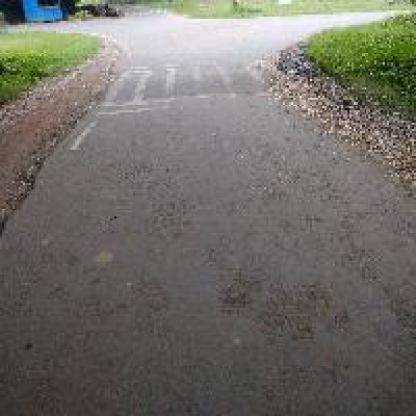Speed Bump: (100, 62, 268, 112)
